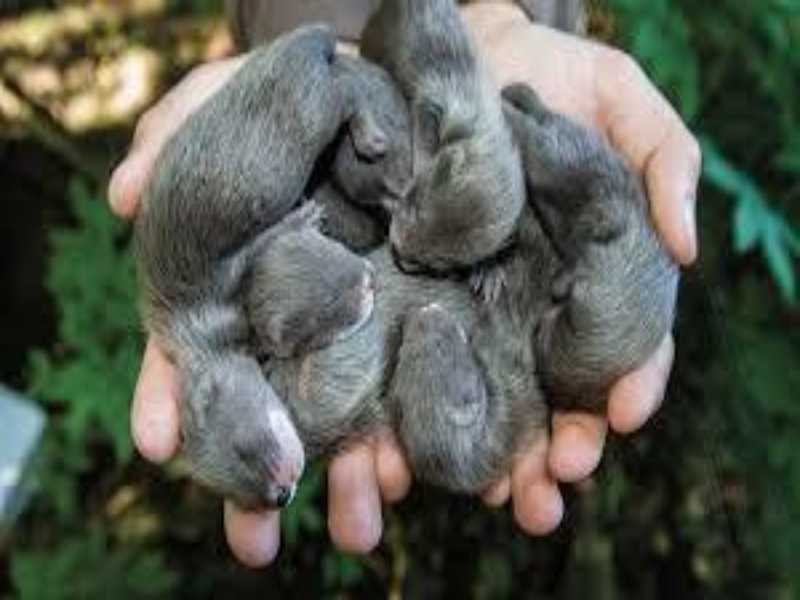minkish: (114, 11, 388, 514), (504, 77, 672, 422), (350, 1, 528, 282), (399, 293, 554, 494), (245, 198, 378, 377)
